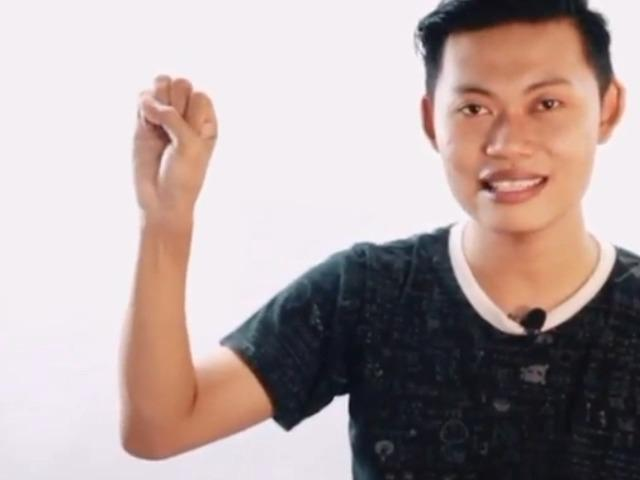S: (124, 66, 220, 206)
